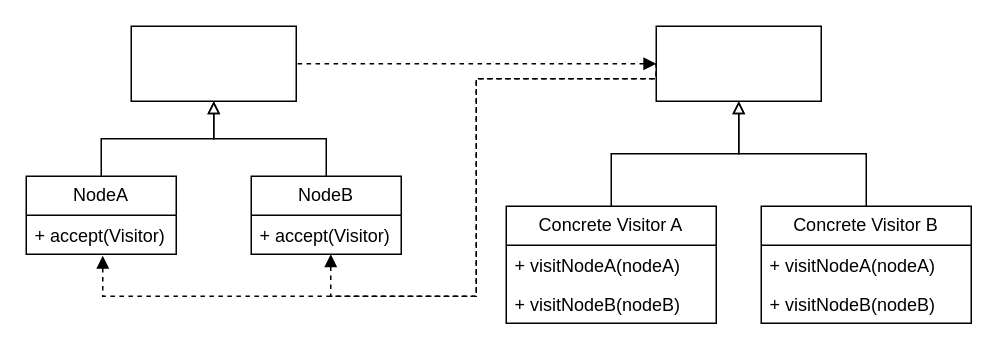
The diagram is 998 pixels wide and 354 high, and some of its shapes have lost their labels. The shapes that lost their labels are listed below. From the top down, each one's centre as x and y in pixels, then its label:
At (x=213, y=63): "«interface» Node".
At (x=738, y=63): "«interface» Visitor".
